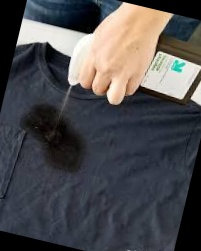oil: (17, 103, 93, 168)
